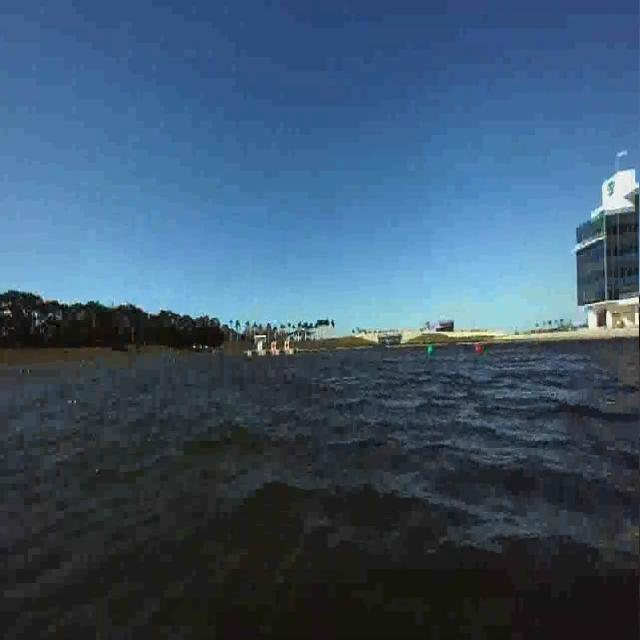green-buoy: (426, 344, 435, 357)
